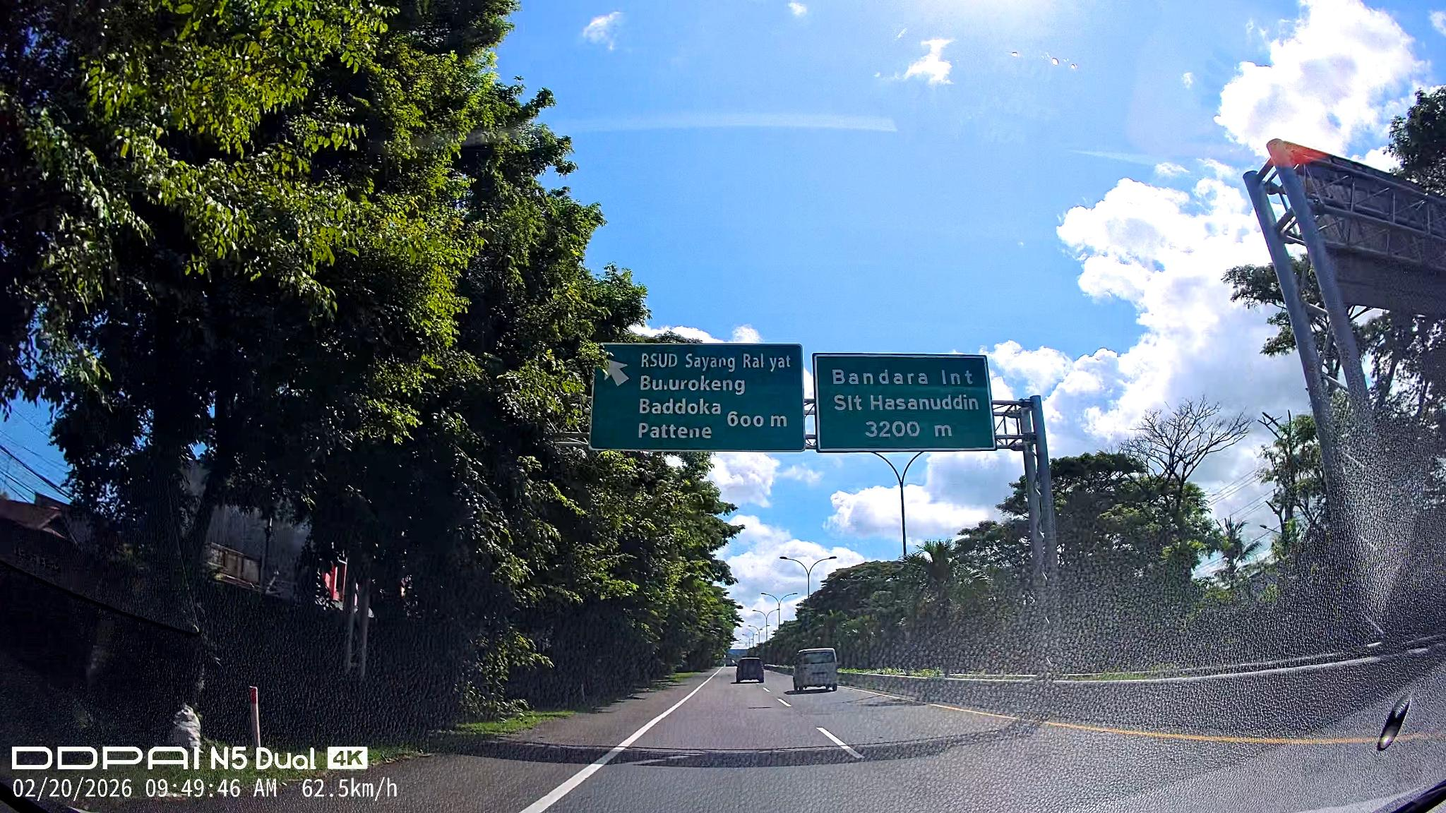rambu_teks: (588, 342, 807, 454), (812, 352, 999, 453)
